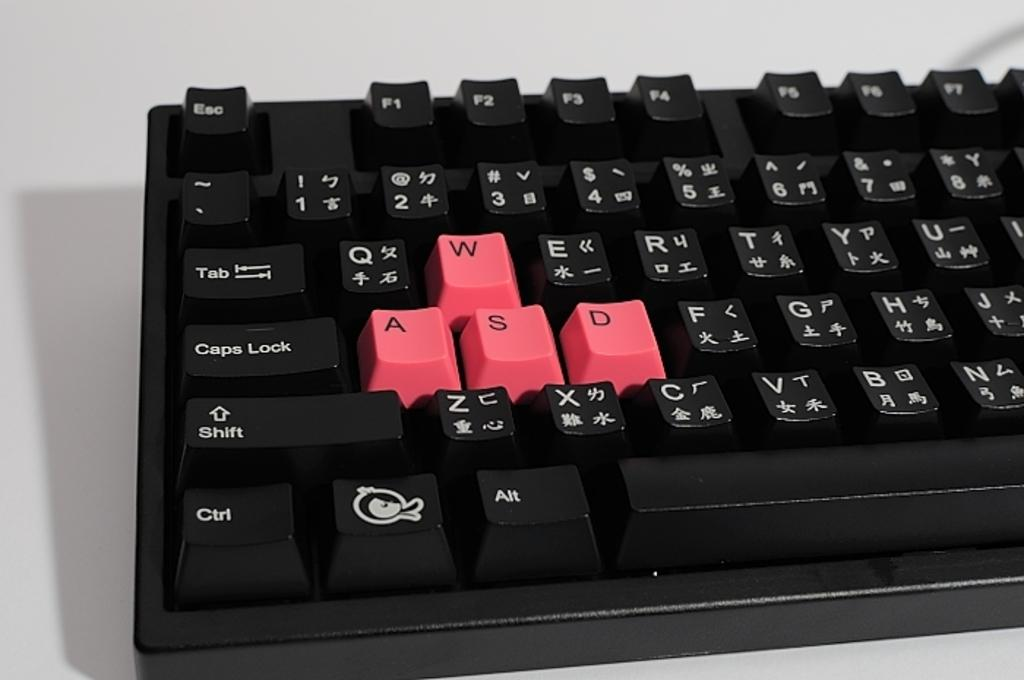Computer-keyboard: (130, 66, 1023, 677)
